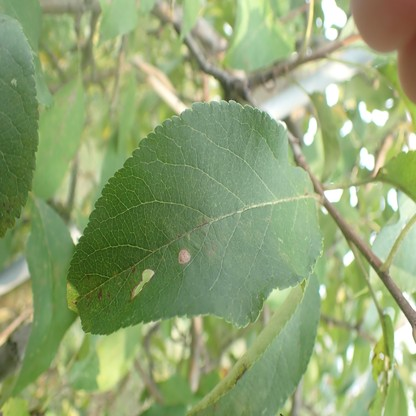frogeye_leaf_spot: (178, 249, 190, 264)
scab: (71, 191, 311, 313)
